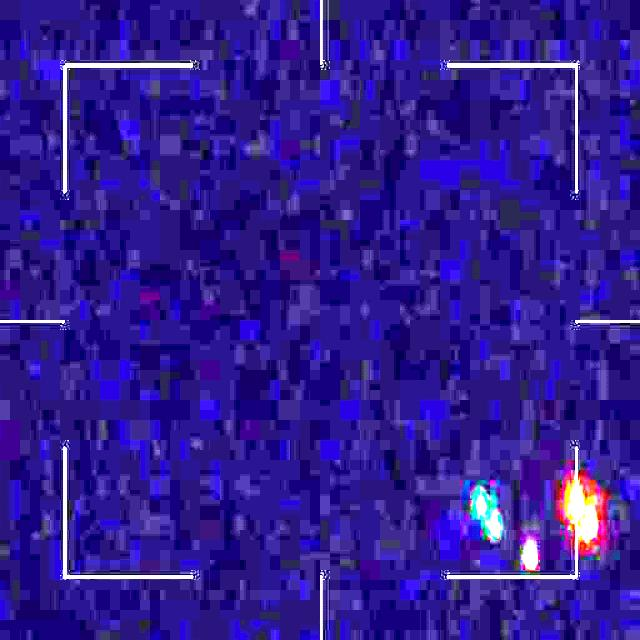bird: (474, 475, 600, 571)
